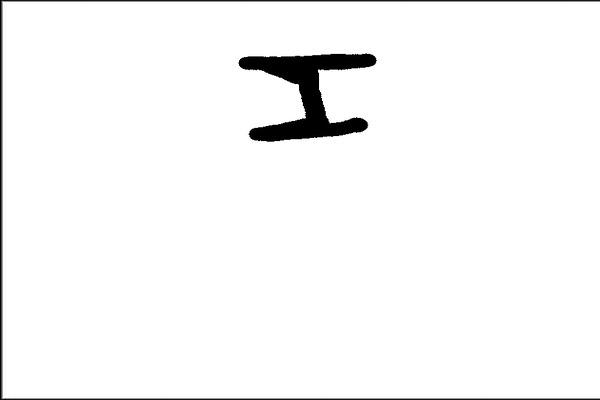i: (227, 43, 385, 144)
